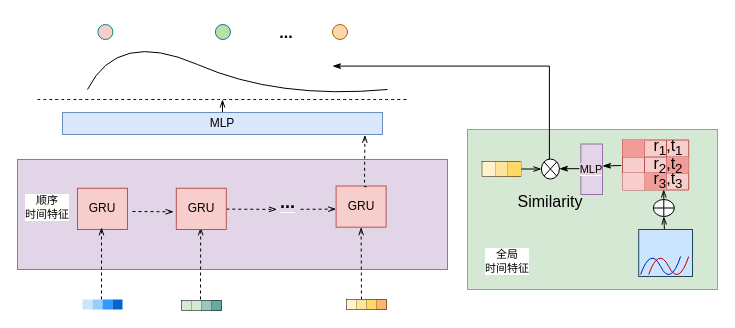
The diagram is 735 pixels wide and 328 high, and some of its shapes have lost their labels. The box of each missing label's shape, as (x1, y1, x2, y2) in pixels:
r q: (481, 160, 521, 176)
相对时间 编码: (638, 228, 692, 276)
